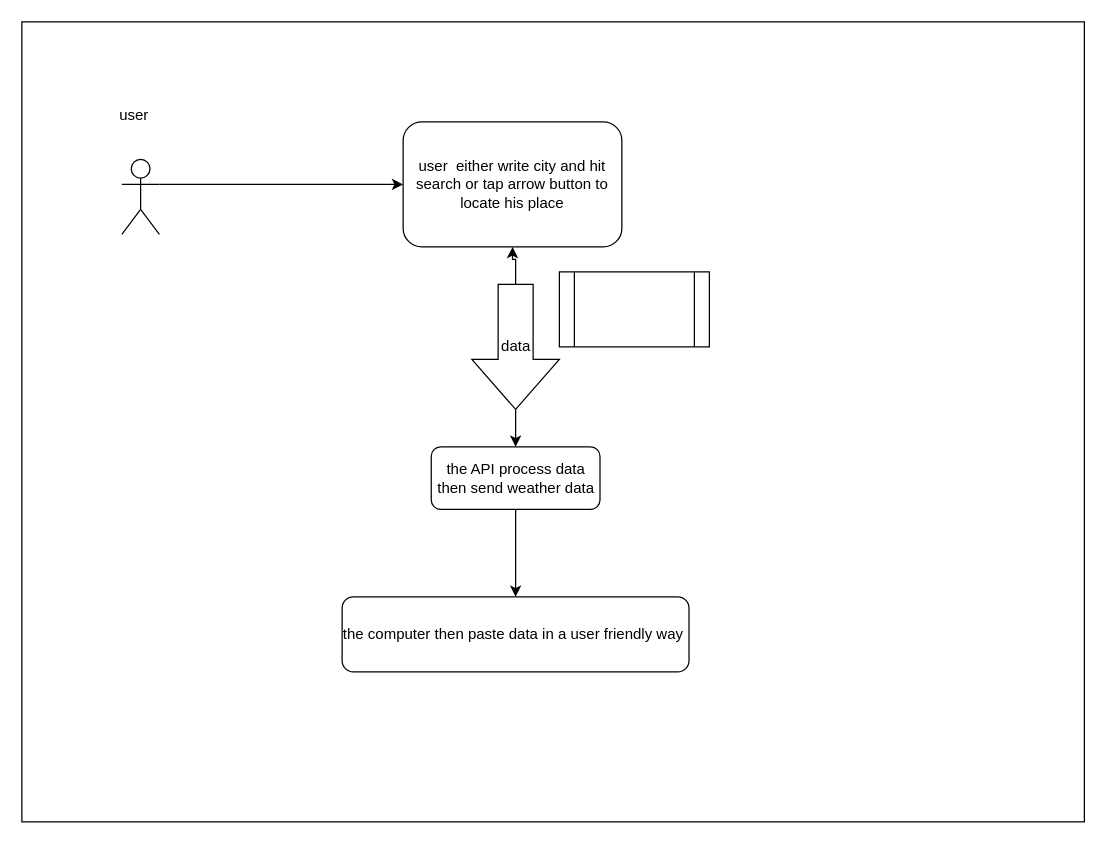
Some shapes in this 1106 by 844 pixel diagram are drawn without their labels. The shapes that lost their labels are listed below. From the top down, each one's centre as x and y in pixels, then its label:
At point 140,196: "Actor".
At point 633,309: "the computer send location to API for data".
